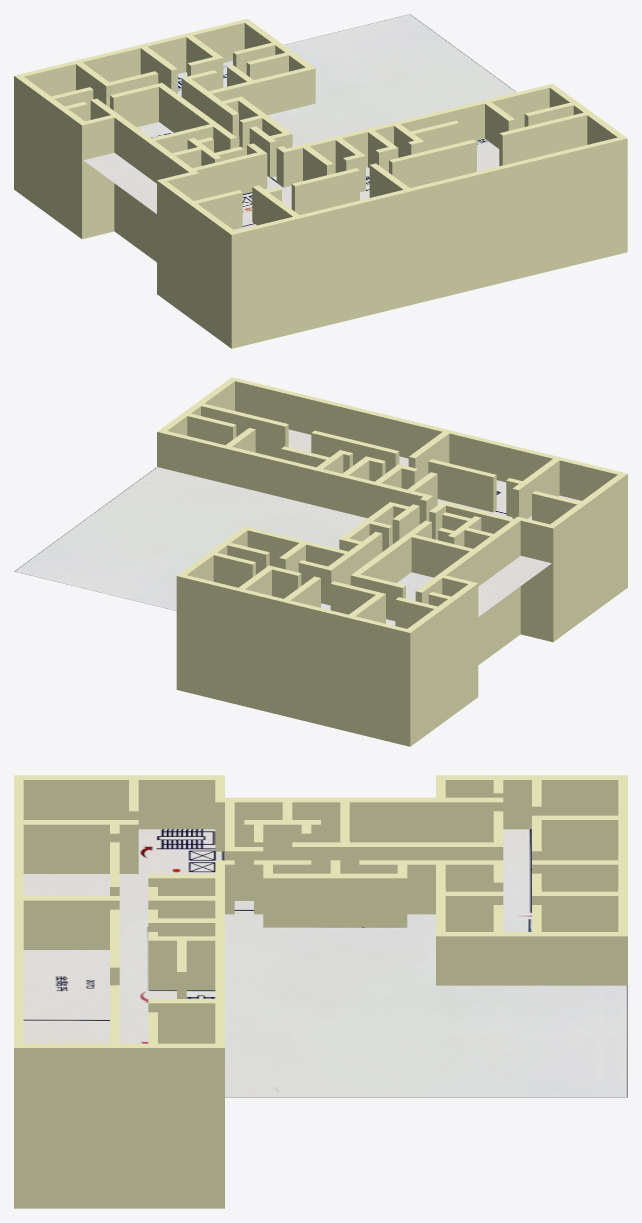
Rendered from College-of-Commerce-7F-cube.glb.
3 views of the same model, one above another, from view 1: azimuth 30°, elevation 25°; view 2: azimuth 150°, elevation 25°; view 3: azimuth 270°, elevation 25° (orthographic). The views are drawn at different scales.
Parts seen in each view (by area): view 1: Cube, Plane; view 2: Cube, Plane; view 3: Cube, Plane.
Boxes of the visible parts, x1,y1,x2,y2 form: Cube: [14, 18, 627, 348]; Plane: [83, 14, 516, 230]; Cube: [157, 377, 627, 746]; Plane: [14, 429, 581, 625]; Cube: [14, 775, 627, 1208]; Plane: [23, 829, 627, 1097].
Size of the model in its own units: 40.08 by 11 by 38.13.
Materials: 2 (1 with a texture image).
